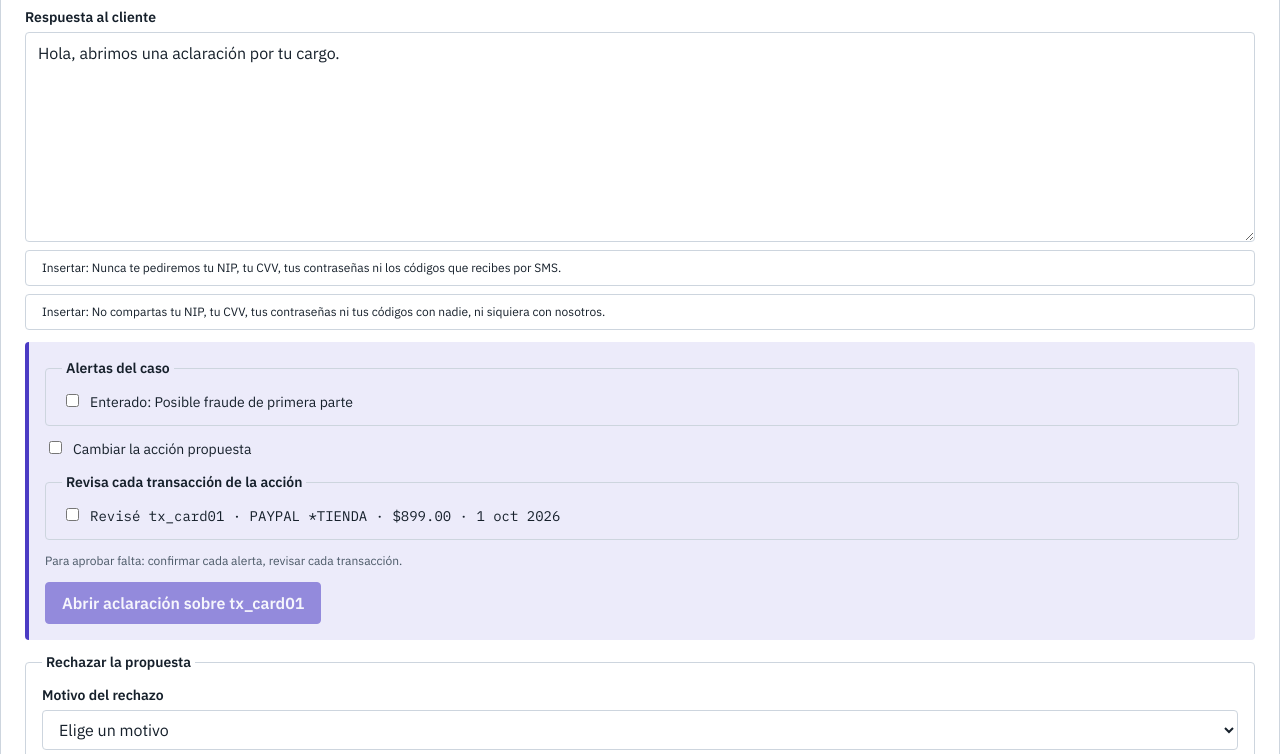
decision panel (02 G3) › says what an approval does, and nothing about canaries
(page scrolled)
Expected: the button "Abrir aclaración sobre tx_card01" is shown, [45,582,321,624]
Step 1. Click the checkbox labelled "Enterado: Posible fraude de primera parte" → (72, 400), box [66,394,79,407]
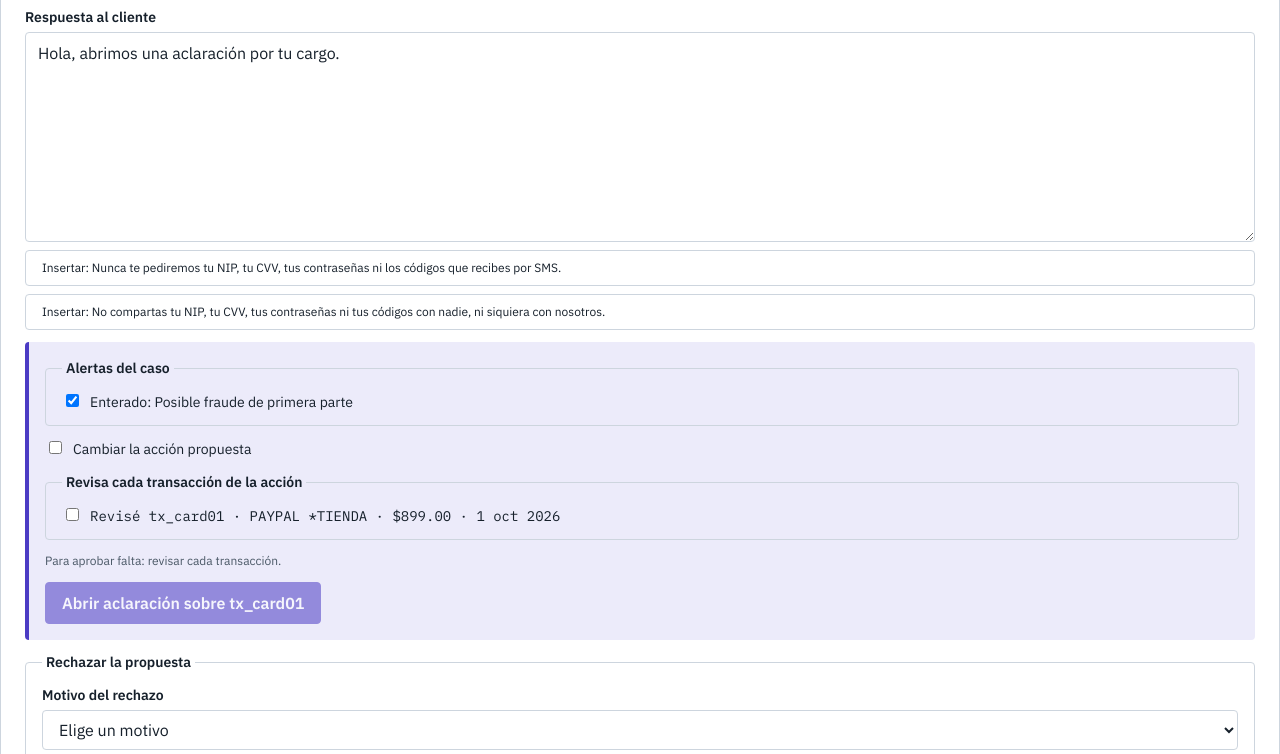
Step 2. Click the checkbox labelled "Revisé tx_card01 · PAYPAL *TIENDA · $899.00 · 1 oct 2026" → (72, 514), box [66,508,79,521]
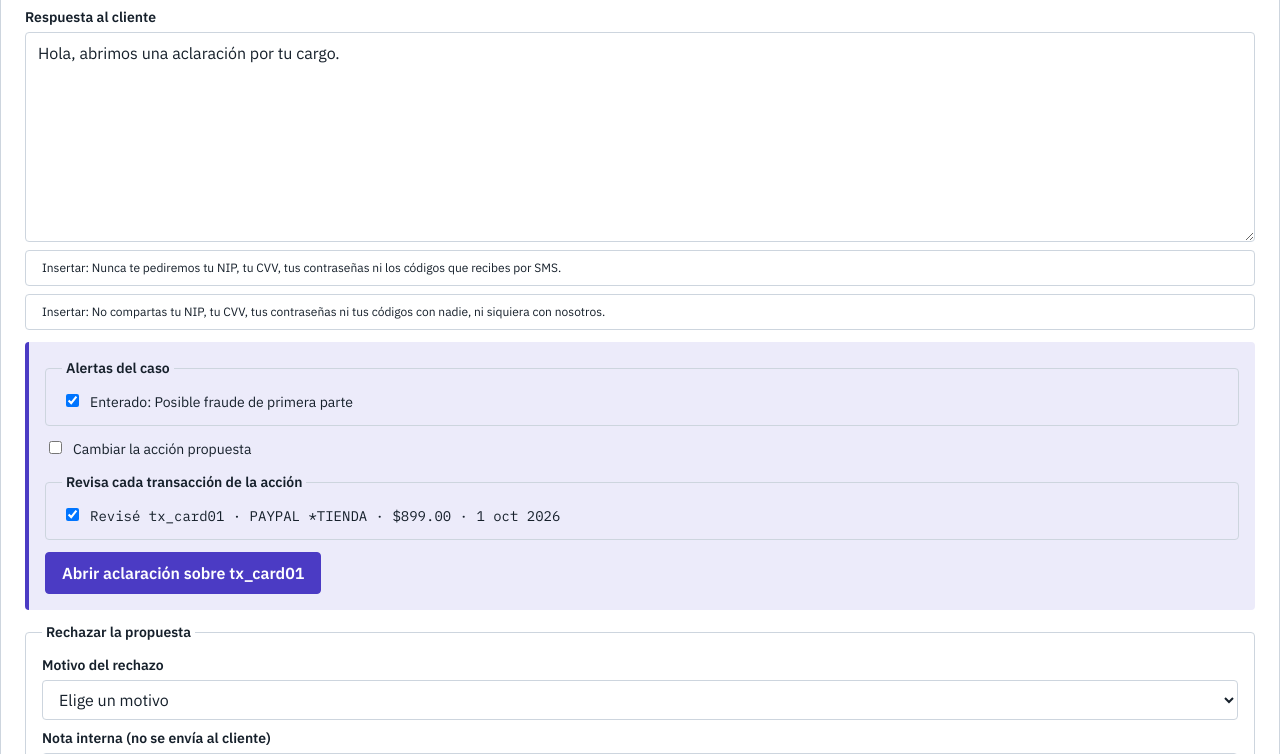
Step 3. Click the button "Abrir aclaración sobre tx_card01" → (183, 573), box [45,552,321,594]
(page scrolled)
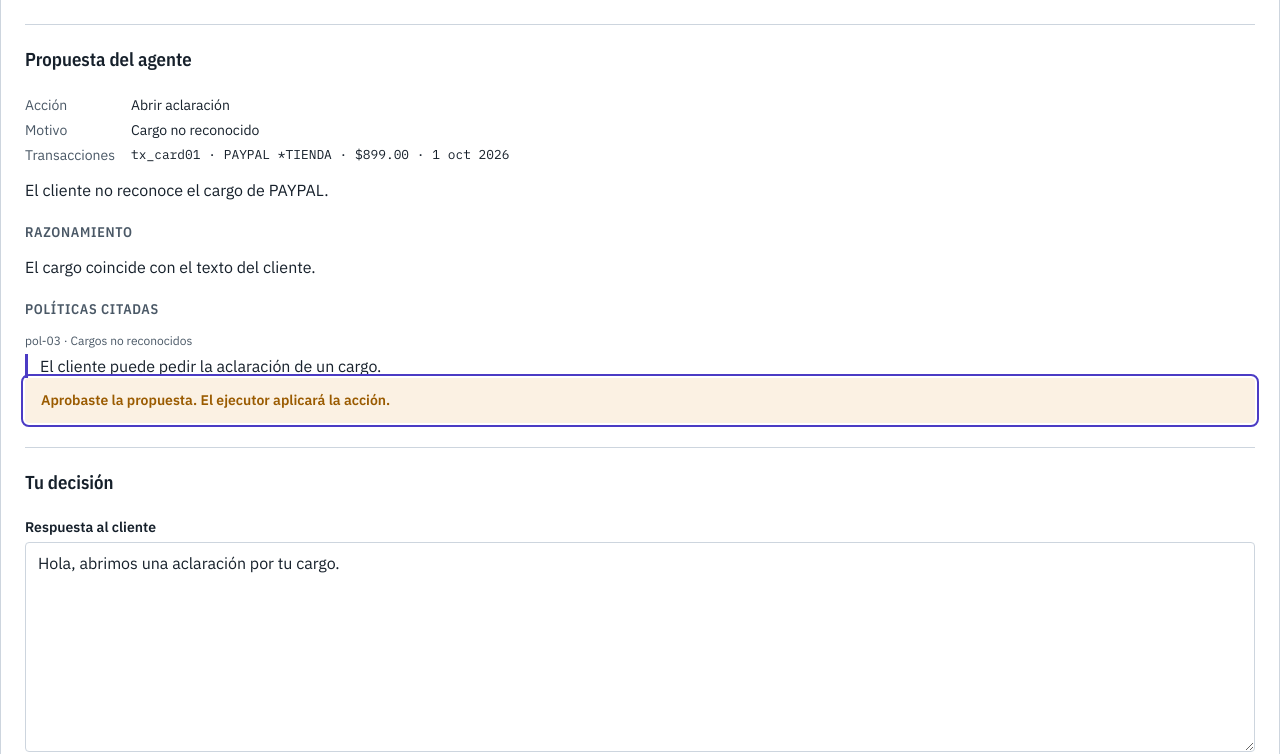
Now the message reads "Aprobaste la propuesta. El ejecutor aplicará la acción.", box [41,390,390,408]
